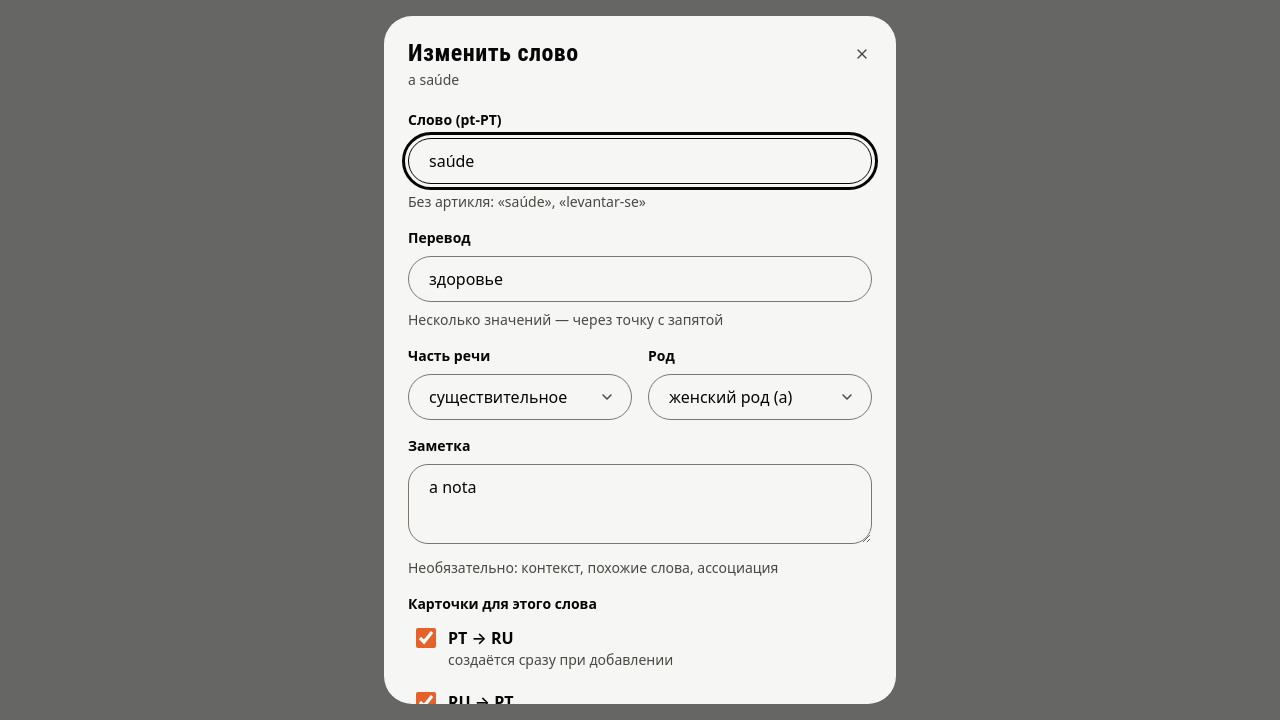
Test: WordEditor › validation: empty lemma / translation, no modes
Clear the field labelled "Слово (pt-PT)" at (640, 161), box [408,138,872,184]
Clear the field labelled "Перевод" at (640, 279), box [408,256,872,302]
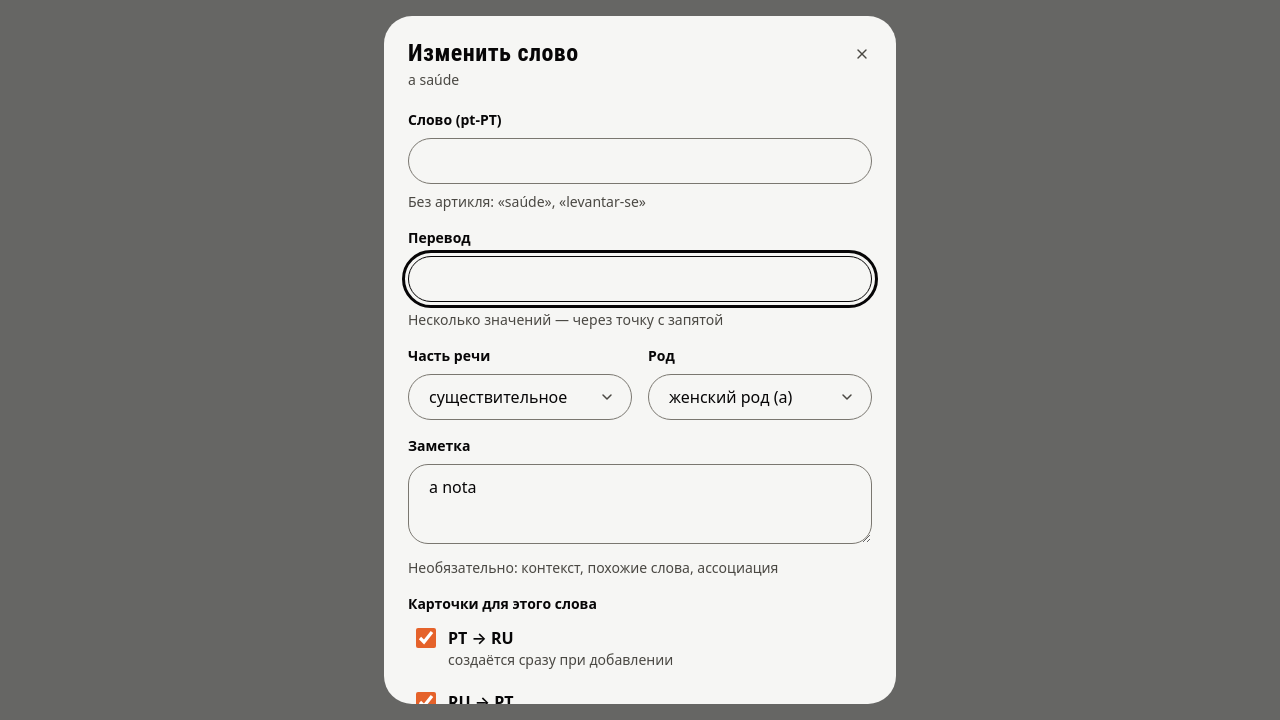
Click the checkbox labelled "PT → RU создаётся сразу при добавлении".
click(426, 638)  # box [416,628,436,648]
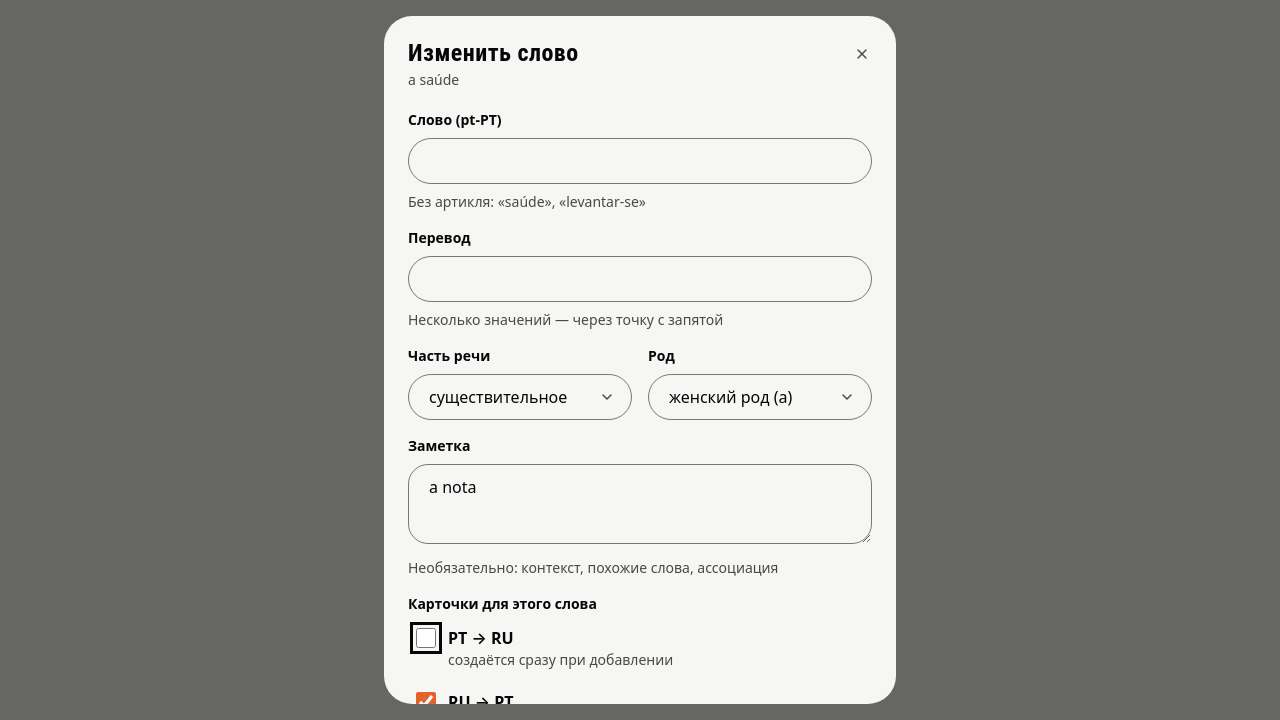
Click the checkbox labelled "RU → PT после первого успешного повторения PT → RU".
click(426, 702)  # box [416,692,436,712]
(page scrolled)
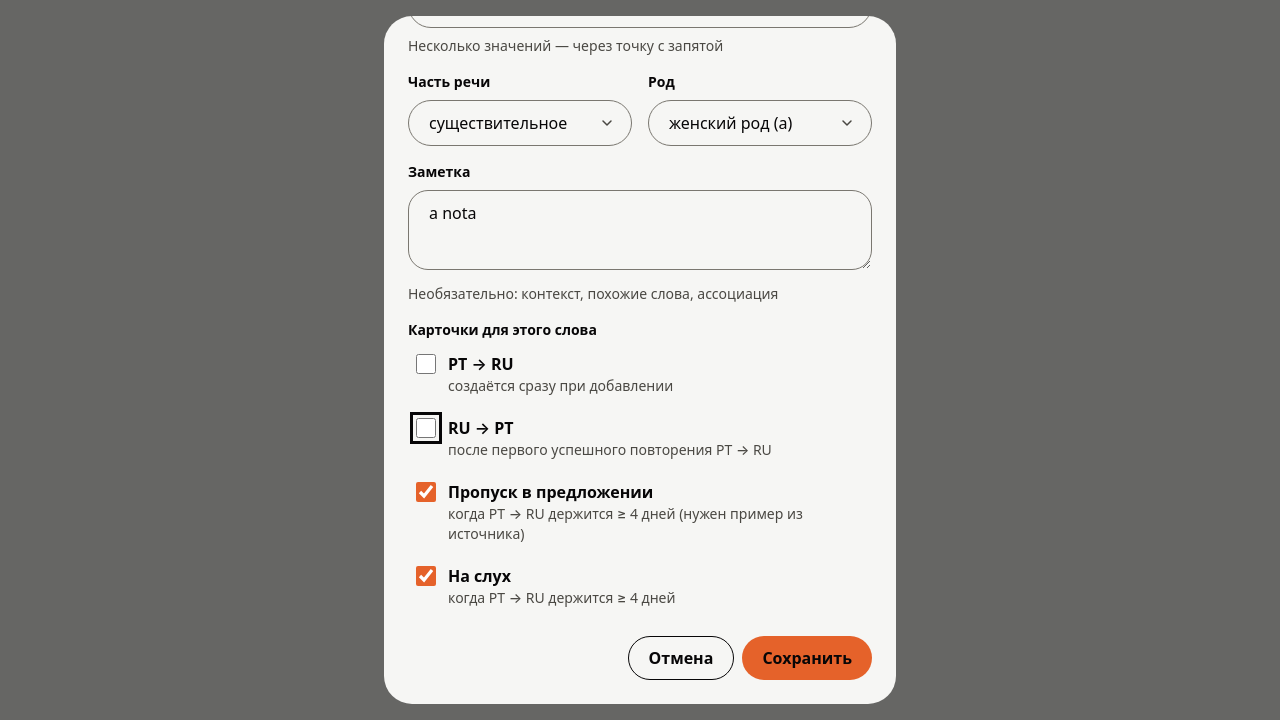
Click the 3rd checkbox.
click(426, 492)  # box [416,482,436,502]
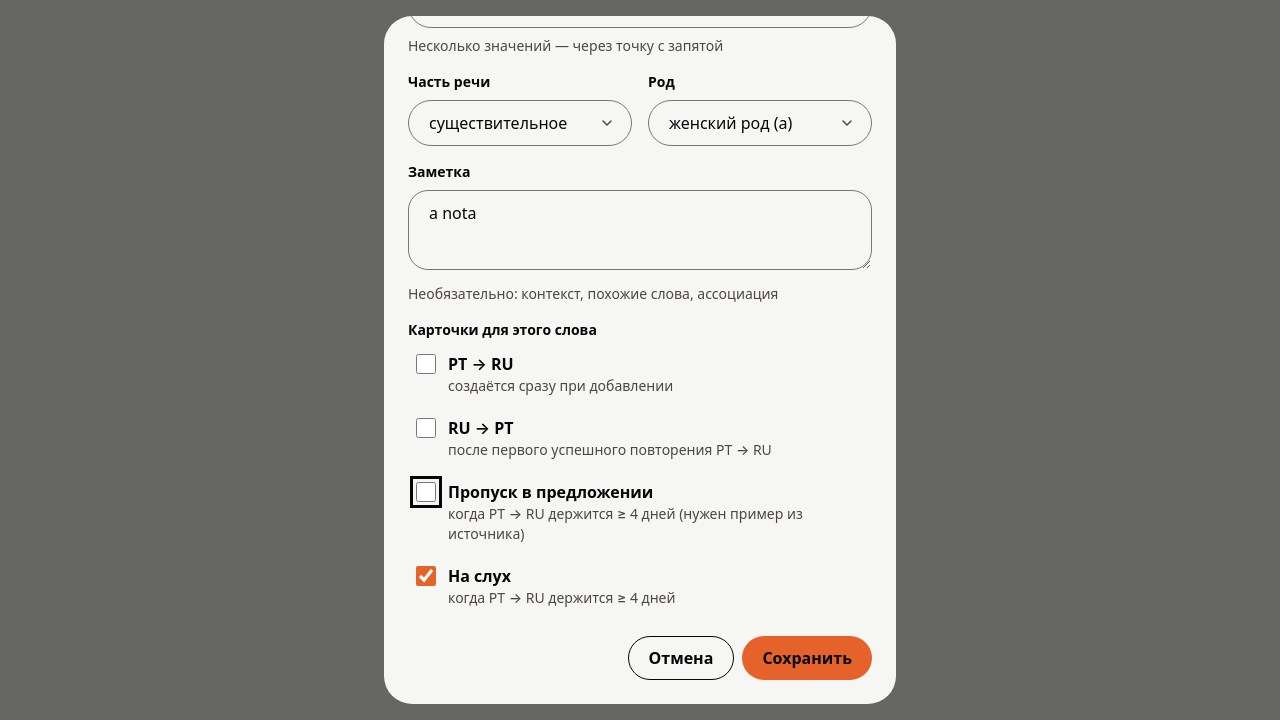
Click the checkbox labelled "На слух когда PT → RU держится ≥ 4 дней".
click(426, 576)  # box [416,566,436,586]
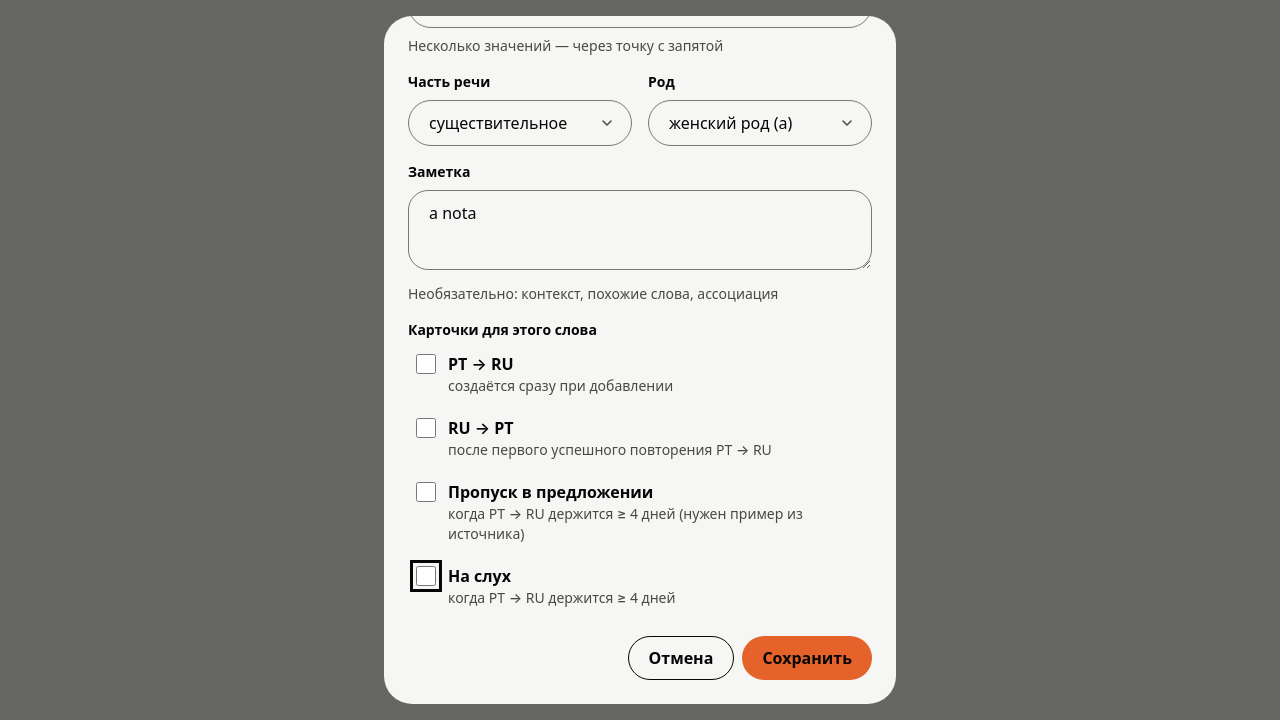
Click the button "Сохранить".
click(807, 658)  # box [742,636,872,680]
(page scrolled)
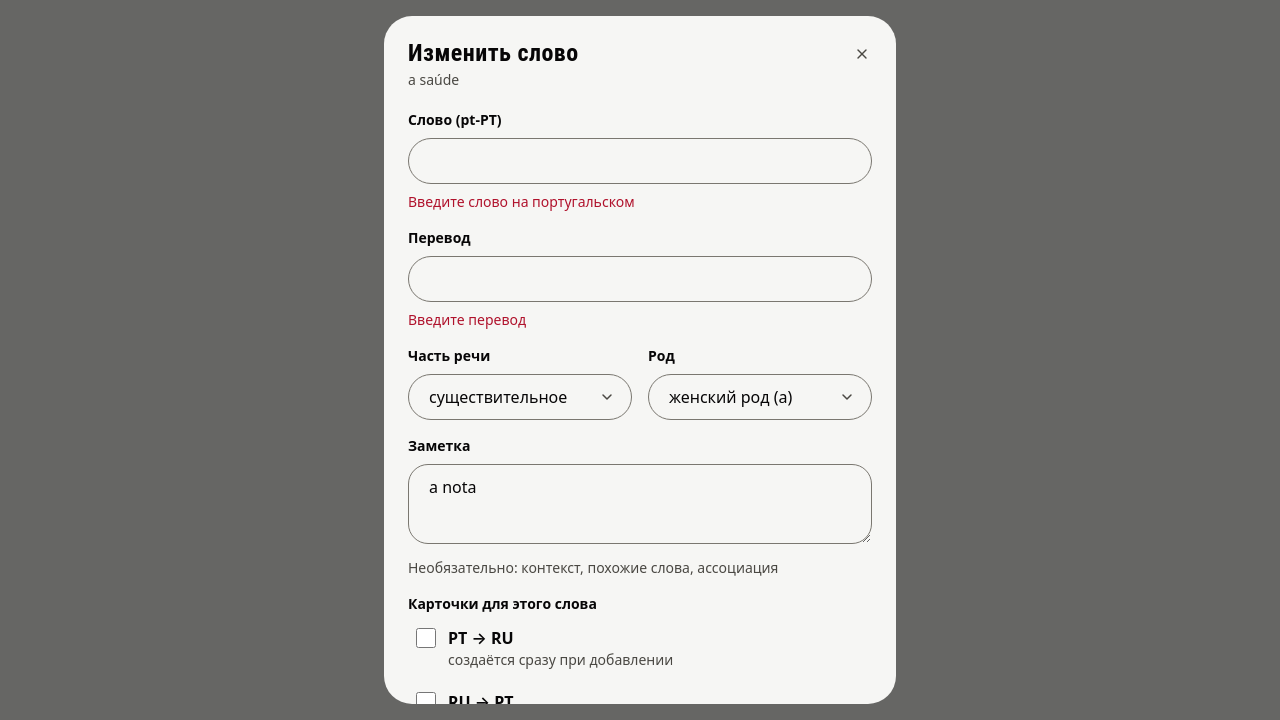
Check: the text "Введите слово на португальском" is shown, box [408,192,635,211]
Check: the text "Введите перевод" is shown, box [408,310,526,329]
